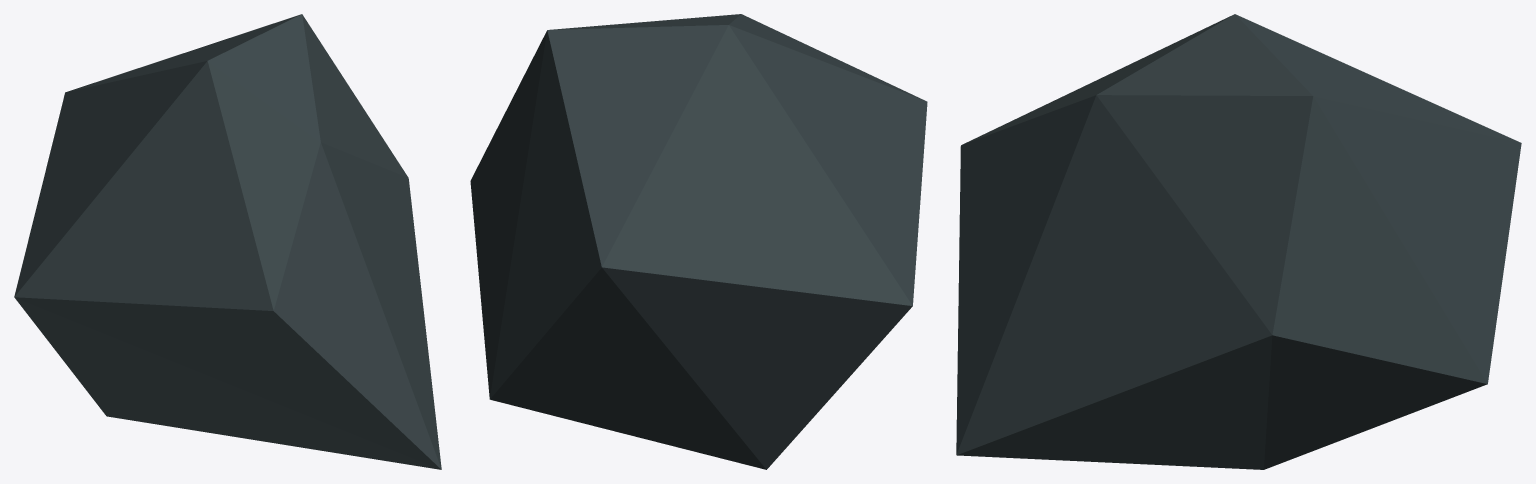
File: Broken_Planet_Rings_03_Asteroid.fbx
The picture shows the model from 3 angles, left to right: view 1: azimuth 30°, elevation 25°; view 2: azimuth 150°, elevation 25°; view 3: azimuth 270°, elevation 25°; orthographic projection. The views are drawn at different scales.
Visible parts, largest first — view 1: Broken_Planet_Rings_03_Asteroid; view 2: Broken_Planet_Rings_03_Asteroid; view 3: Broken_Planet_Rings_03_Asteroid.
Part boxes in pixels (left/top/right/bottom): Broken_Planet_Rings_03_Asteroid: left=14, top=14, right=441, bottom=469; Broken_Planet_Rings_03_Asteroid: left=470, top=14, right=927, bottom=469; Broken_Planet_Rings_03_Asteroid: left=956, top=14, right=1521, bottom=469.
Bounding box in the file's own units: 1193 × 1041 × 1320.
